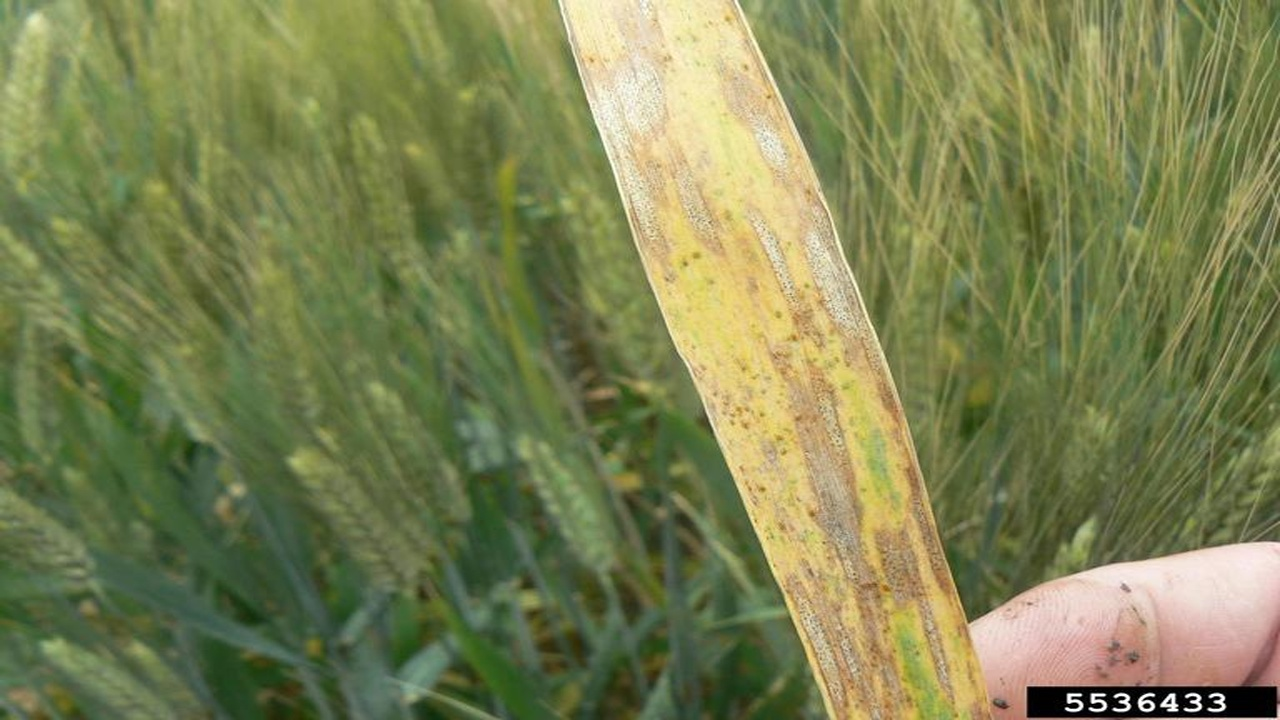leaf_rust: (558, 1, 994, 716)
